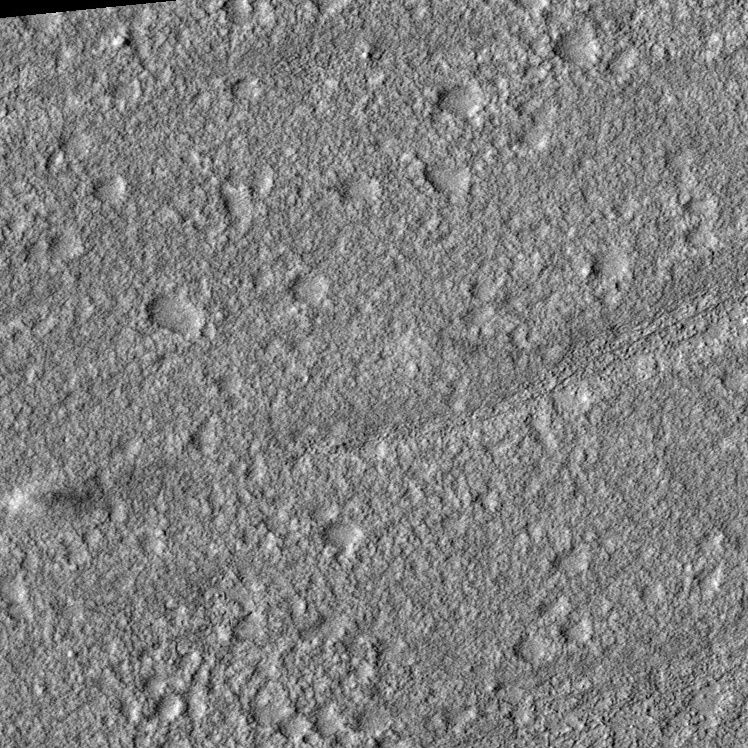dust_devil: (1, 473, 116, 518)
